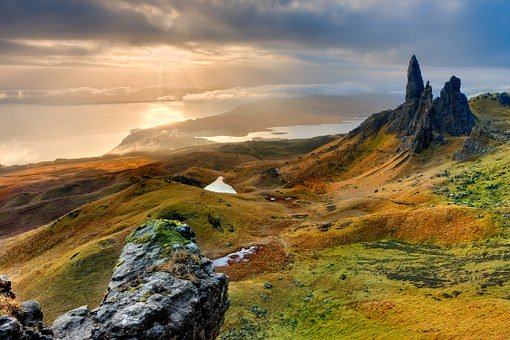mountain: (26, 86, 510, 335)
sky: (4, 5, 379, 154)
